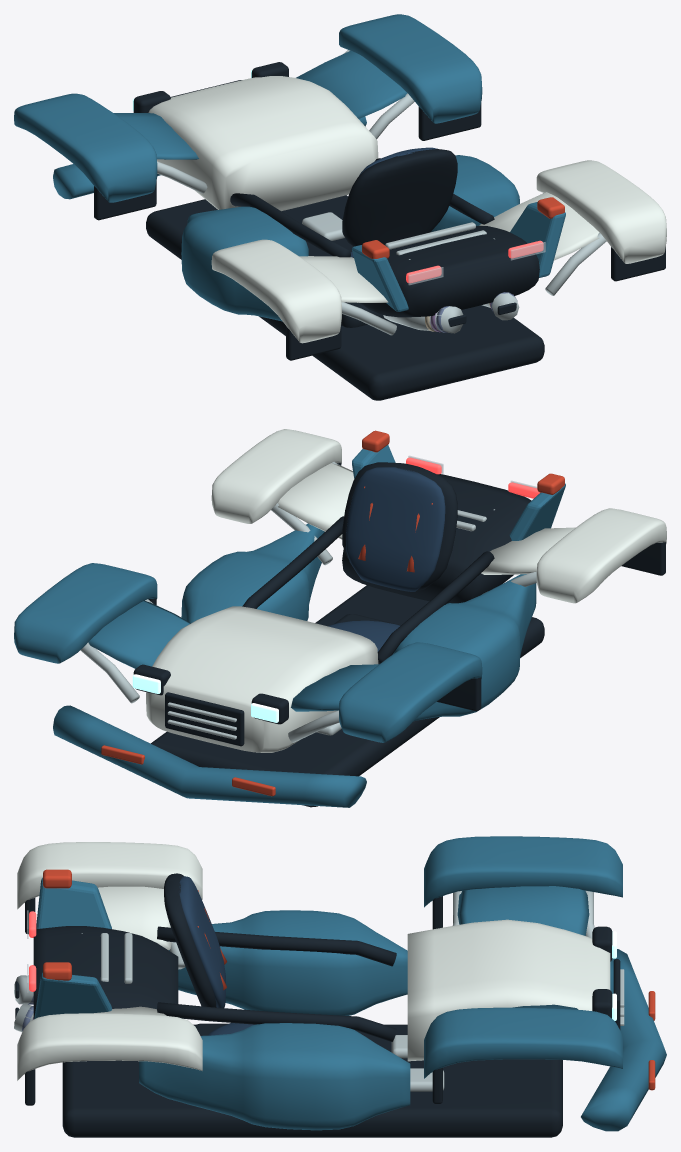
File: schneewacht.glb
3 renders of one model, top to bottom at view 1: azimuth 30°, elevation 25°; view 2: azimuth 150°, elevation 25°; view 3: azimuth 270°, elevation 25°, orthographic. The views are drawn at different scales.
Parts seen in each view (by area): view 1: LOD0, ShowroomDetail; view 2: LOD0; view 3: LOD0.
Part boxes in pixels (x1,y1,x2,y2): LOD0: (14,14,666,400); ShowroomDetail: (408,242,545,332); LOD0: (14,429,666,807); LOD0: (14,836,666,1137).
Size of what is drawn, in the model's own units: 1.86 by 0.868 by 2.48.
